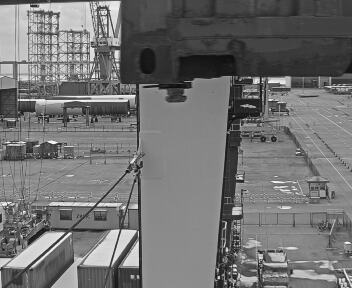twist_lock_1: (221, 127, 239, 146)
